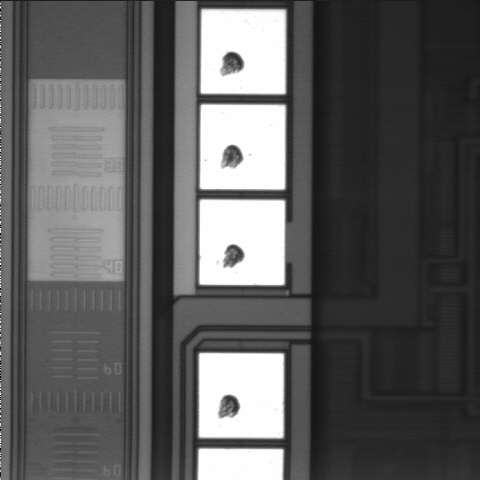pad: (201, 9, 286, 94), (200, 200, 285, 285), (199, 353, 284, 438), (200, 105, 285, 189)
